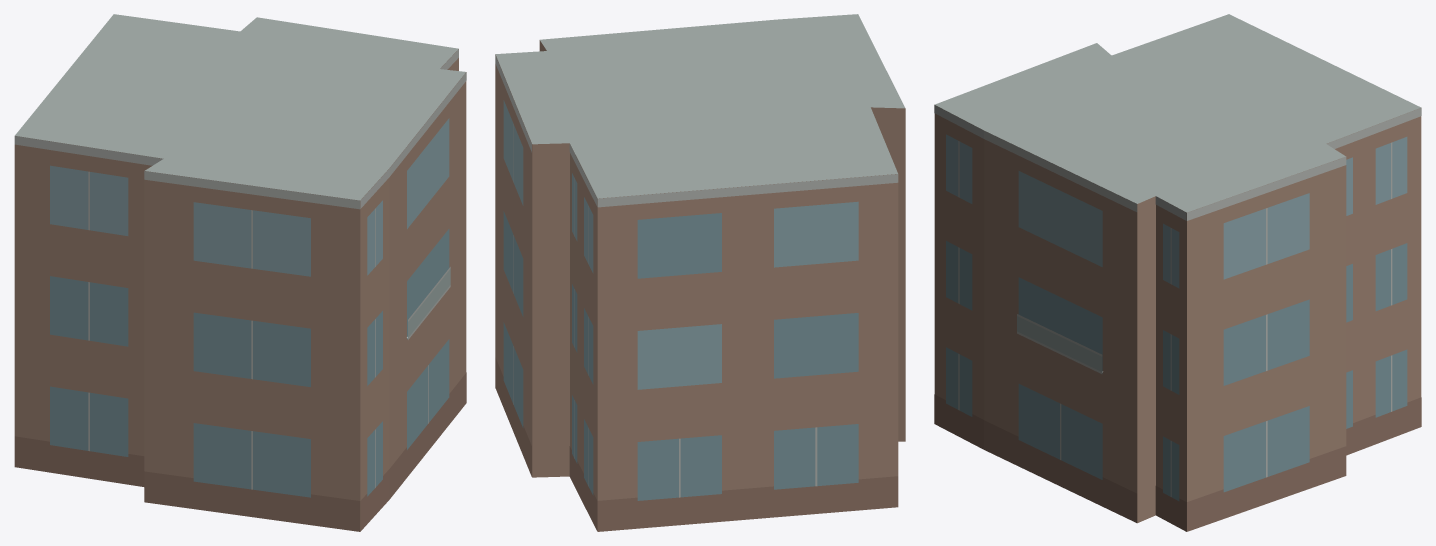
File: survey-upis-32979086.glb
3 renders of one model, left to right at view 1: azimuth 30°, elevation 25°; view 2: azimuth 150°, elevation 25°; view 3: azimuth 270°, elevation 25°, orthographic. The views are drawn at different scales.
Visible parts, largest first — view 1: survey-upis-32979086.tmp; view 2: survey-upis-32979086.tmp; view 3: survey-upis-32979086.tmp.
Boxes of the visible parts, x1,y1,x2,y2 form: survey-upis-32979086.tmp: [14, 14, 466, 531]; survey-upis-32979086.tmp: [495, 14, 905, 531]; survey-upis-32979086.tmp: [934, 14, 1421, 531].
Bounding box in the file's own units: 12.21 × 9.15 × 12.66.
